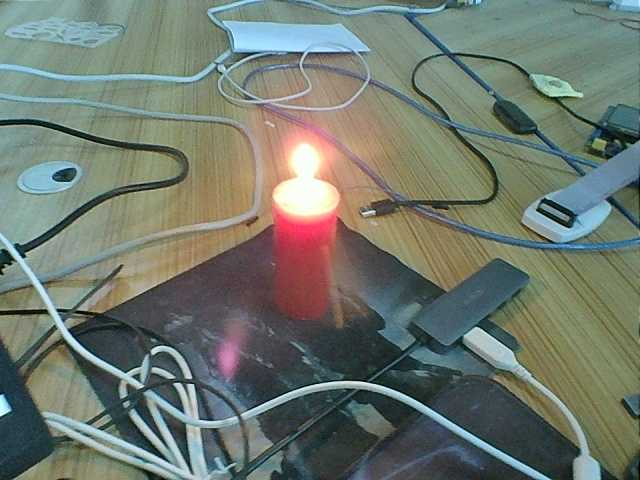candle: (275, 212, 337, 320)
fire: (282, 142, 336, 207)
